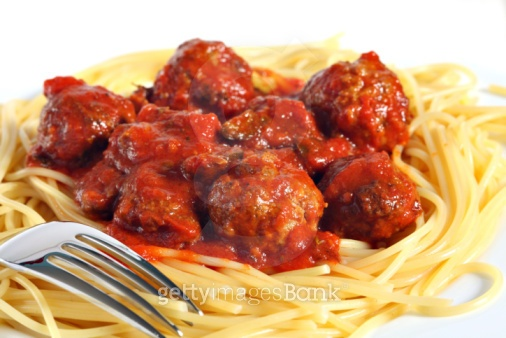meatballs: (197, 152, 326, 251), (297, 58, 404, 141), (322, 155, 420, 237), (160, 39, 250, 111), (42, 85, 122, 157)
plain spaghetti: (5, 184, 482, 332), (402, 60, 500, 275)
